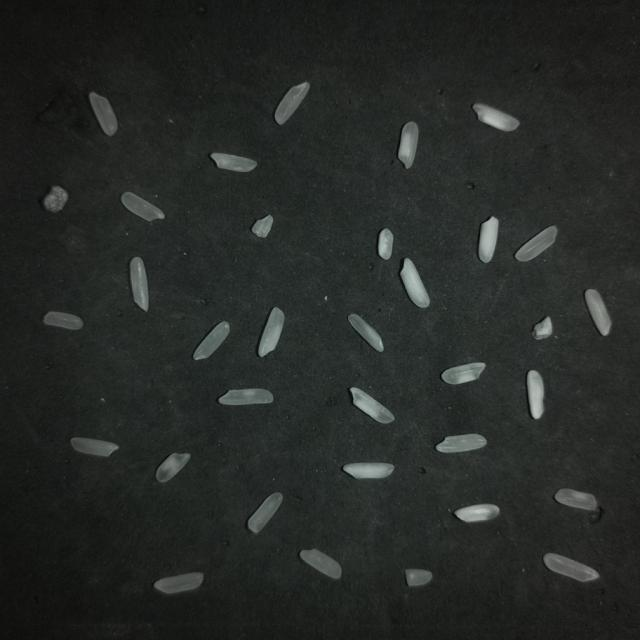broken: (252, 215, 273, 238), (405, 569, 432, 586), (378, 229, 393, 259)
chalky: (350, 387, 394, 423), (401, 259, 429, 308), (472, 104, 519, 132), (259, 307, 284, 357), (479, 217, 498, 263), (527, 370, 544, 419), (454, 504, 499, 522), (343, 463, 394, 478)
foreign: (42, 186, 68, 213), (532, 317, 552, 339)
whole: (544, 553, 599, 581), (515, 226, 556, 261), (248, 492, 283, 533), (275, 82, 309, 124), (193, 322, 229, 360), (348, 314, 383, 352), (89, 92, 118, 136), (121, 192, 164, 221), (300, 549, 341, 579), (585, 289, 611, 336), (154, 572, 203, 594), (156, 453, 190, 482), (130, 257, 148, 311), (435, 434, 486, 453), (398, 122, 418, 169), (442, 363, 486, 384), (71, 437, 119, 456), (555, 489, 597, 510), (219, 389, 273, 405), (210, 154, 256, 172), (44, 312, 83, 329)
